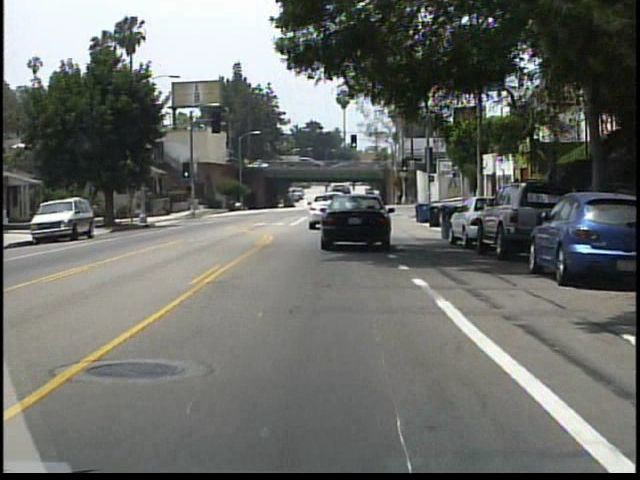person: (93, 199, 104, 227)
